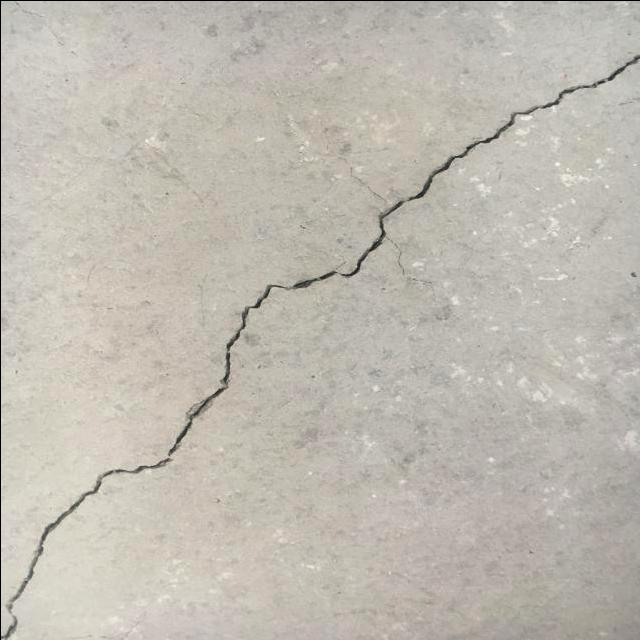SurfaceCrack: (1, 3, 638, 640)
